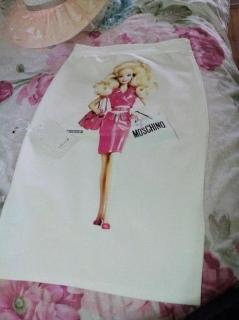skirt: (0, 38, 210, 306)
